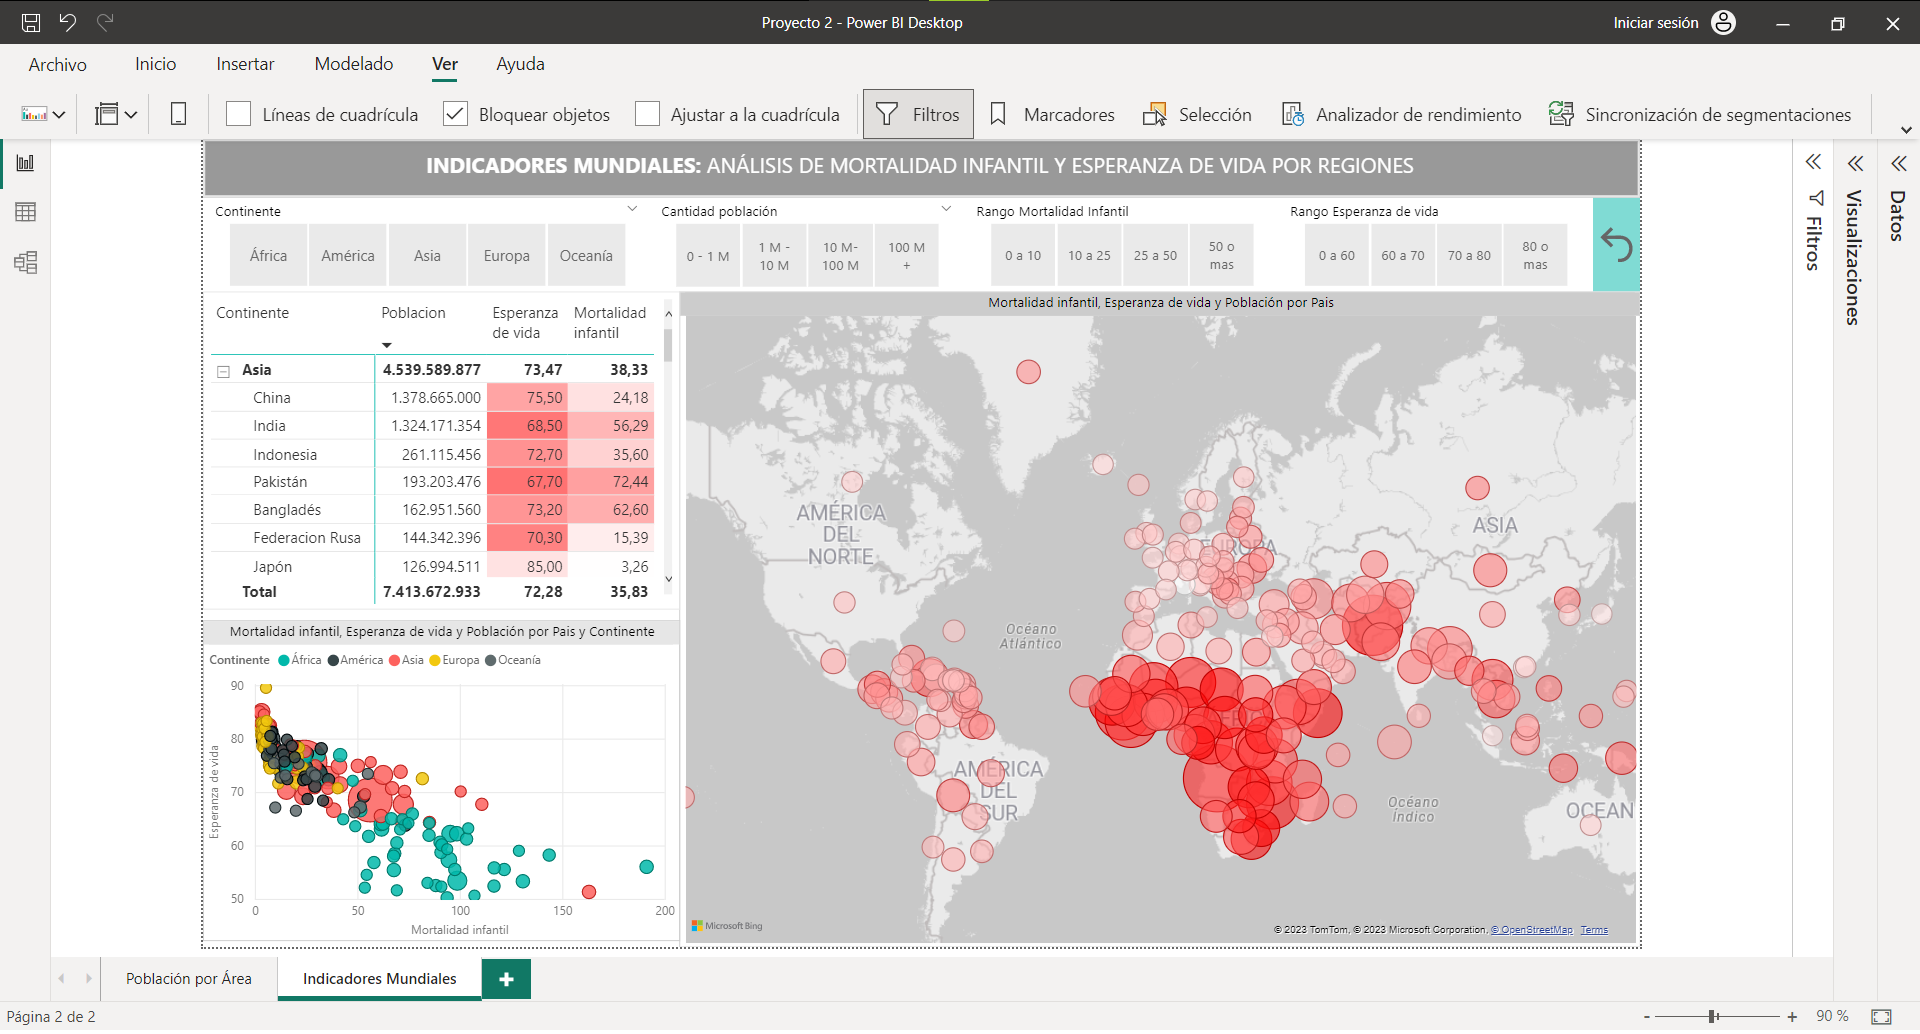

What the dashboard file says about the page in this screenshot:
{"tool":"powerbi","page":{"name":"Indicadores Mundiales","canvas":[1280,720],"ordinal":1},"visuals":[{"type":"slicer","fields":{"Values":["Paises.Continente"]},"box":[0,51.9,397.8,83.2],"z":0,"group":"g1"},{"type":"azureMap","fields":{"Category":["Paises.Pais"],"Size":["Avg(Mortalidad Infantil.Mortalidad infantil)"]},"box":[424.5,136.3,856.3,583.7],"z":0},{"type":"slicer","fields":{"Values":["Mortalidad Infantil.Rango Mortalidad"]},"box":[677.6,51.9,279.9,83.2],"z":1000,"group":"g1"},{"type":"pivotTable","fields":{"Rows":["Paises.Continente","Paises.Pais"],"Values":["Sum(Poblacion.Poblacion)","Avg(Esperanza de vida.Esperanza de vida)","Avg(Mortalidad Infantil.Mortalidad infantil)"]},"box":[0,136.3,424.5,283.4],"z":1000},{"type":"group","id":"g1","title":"Grupo 1","box":[0,51.9,1237.4,84.4],"z":2000},{"type":"slicer","fields":{"Values":["Poblacion.Cantidad población"]},"box":[397.8,51.9,279.9,84.4],"z":2000,"group":"g1"},{"type":"slicer","fields":{"Values":["Esperanza de vida.Rango Esperanza de vida"]},"box":[957.5,51.9,279.9,83.2],"z":3000,"group":"g1"},{"type":"actionButton","box":[1237.4,51.9,42.2,83.2],"z":3000},{"type":"scatterChart","fields":{"Y":["Avg(Esperanza de vida.Esperanza de vida)"],"X":["Avg(Mortalidad Infantil.Mortalidad infantil)"],"Category":["Paises.Pais"],"Series":["Paises.Continente"],"Size":["Sum(Población.Población)"]},"box":[0,428.1,424.5,285.8],"z":4000},{"type":"shape","box":[0,0,1279.6,51.9],"z":5000},{"type":"textbox","box":[7.6,5.1,1261.2,38.1],"z":6000}]}

Visuals, with their boxes on the page's 1280x720 design canvas (x1, y1, x2, y2). These are canvas units, not pixel positions in the 1920x1034 screenshot, which may show the page scaled, cropped or inside an application window:
slicer - Paises.Continente: detection(0, 52, 398, 135)
azureMap - Paises.Pais x Avg(Mortalidad Infantil.Mortalidad infantil): detection(424, 136, 1281, 720)
slicer - Mortalidad Infantil.Rango Mortalidad: detection(678, 52, 958, 135)
pivotTable - Paises.Continente x Paises.Pais: detection(0, 136, 424, 420)
"Grupo 1" group: detection(0, 52, 1237, 136)
slicer - Poblacion.Cantidad población: detection(398, 52, 678, 136)
slicer - Esperanza de vida.Rango Esperanza de vida: detection(958, 52, 1237, 135)
actionButton: detection(1237, 52, 1280, 135)
scatterChart - Avg(Esperanza de vida.Esperanza de vida) x Avg(Mortalidad Infantil.Mortalidad infantil): detection(0, 428, 424, 714)
shape: detection(0, 0, 1280, 52)
textbox: detection(8, 5, 1269, 43)
